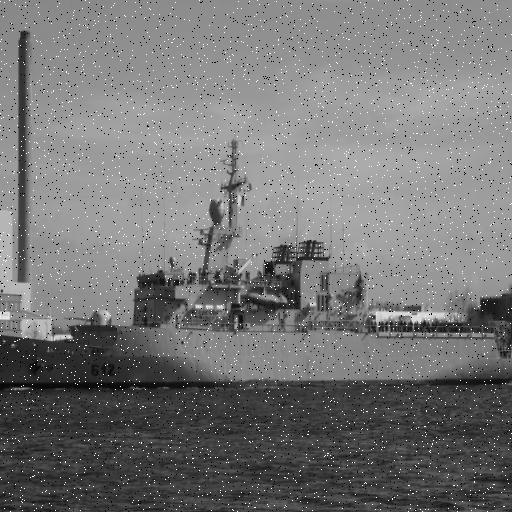Fragata: (1, 132, 512, 397)
